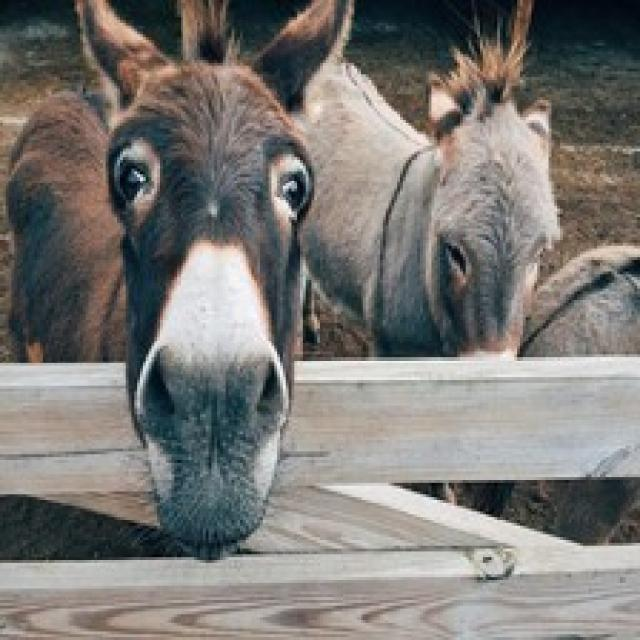Donkey: (68, 0, 357, 554), (277, 0, 563, 509), (514, 240, 637, 543)
